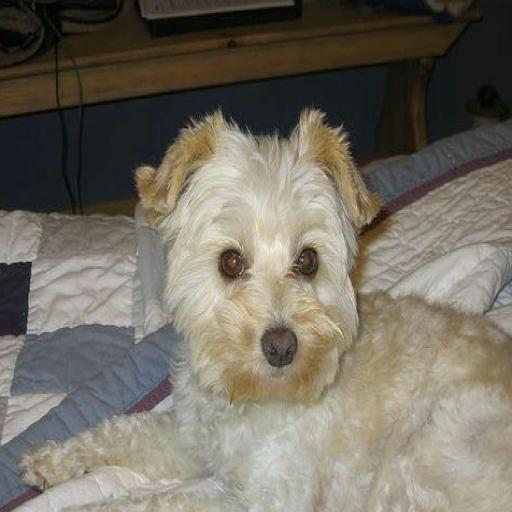dog_face: (157, 116, 380, 397)
